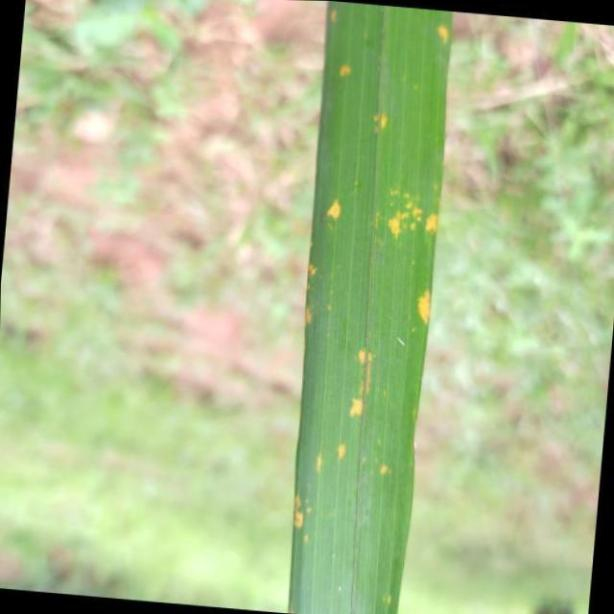Kalium: (285, 0, 454, 614)
